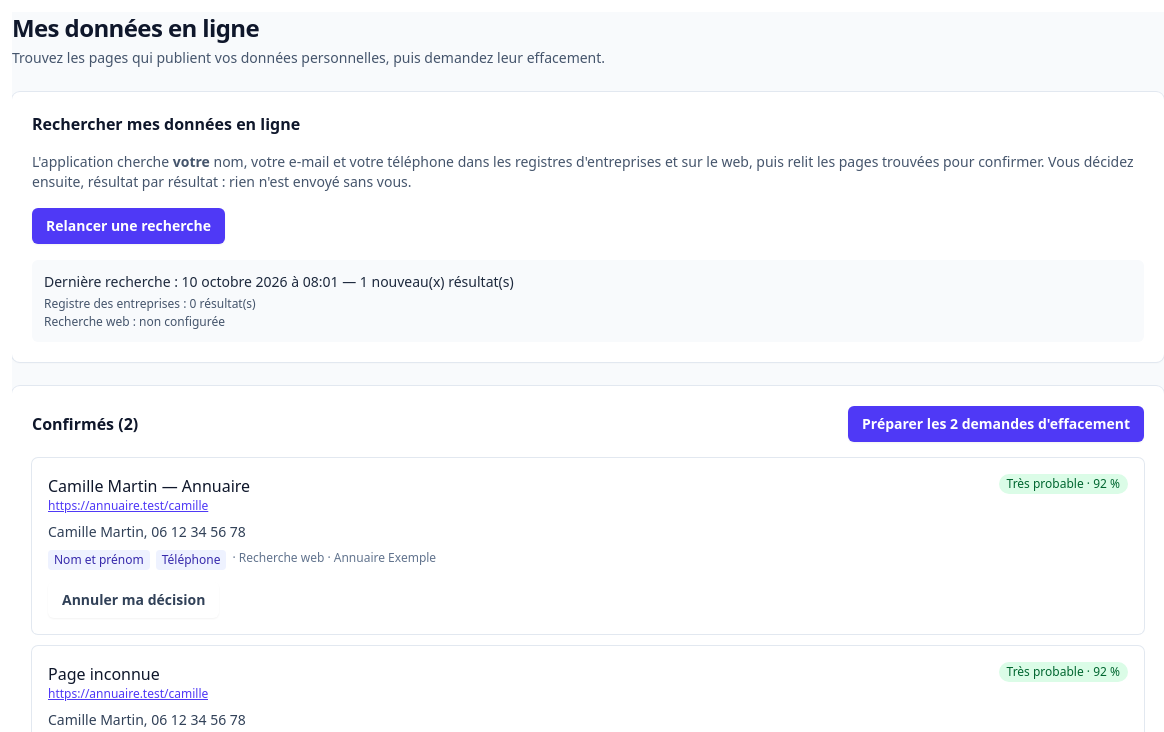
Test: Page « Mes données en ligne » › prépare les demandes des résultats confirmés et explique ceux ignorés
Step 1. Click the button "Préparer les 2 demandes d'effacement" → (996,424), box [848,406,1144,442]
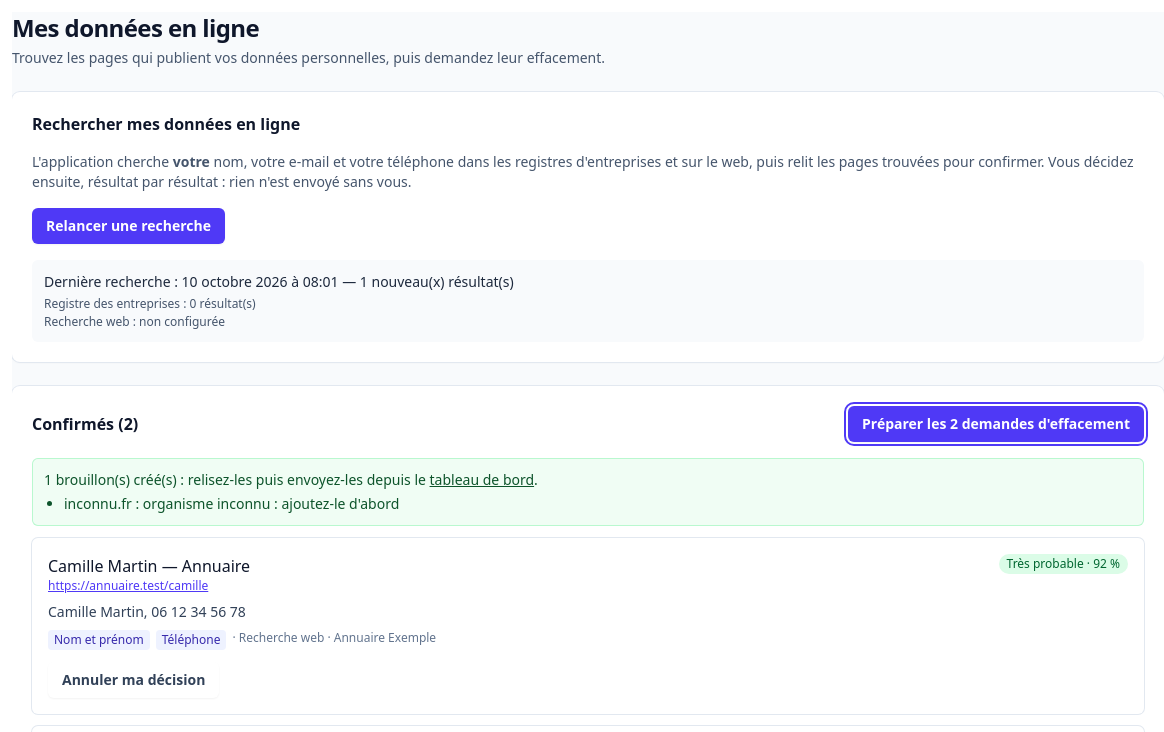
Expected: the text "1 brouillon(s) créé(s)" is shown, [44,470,538,513]
Expected: the list item "inconnu.fr : organisme inconnu : ajoutez-le d'abord" is shown, [64,494,399,513]
